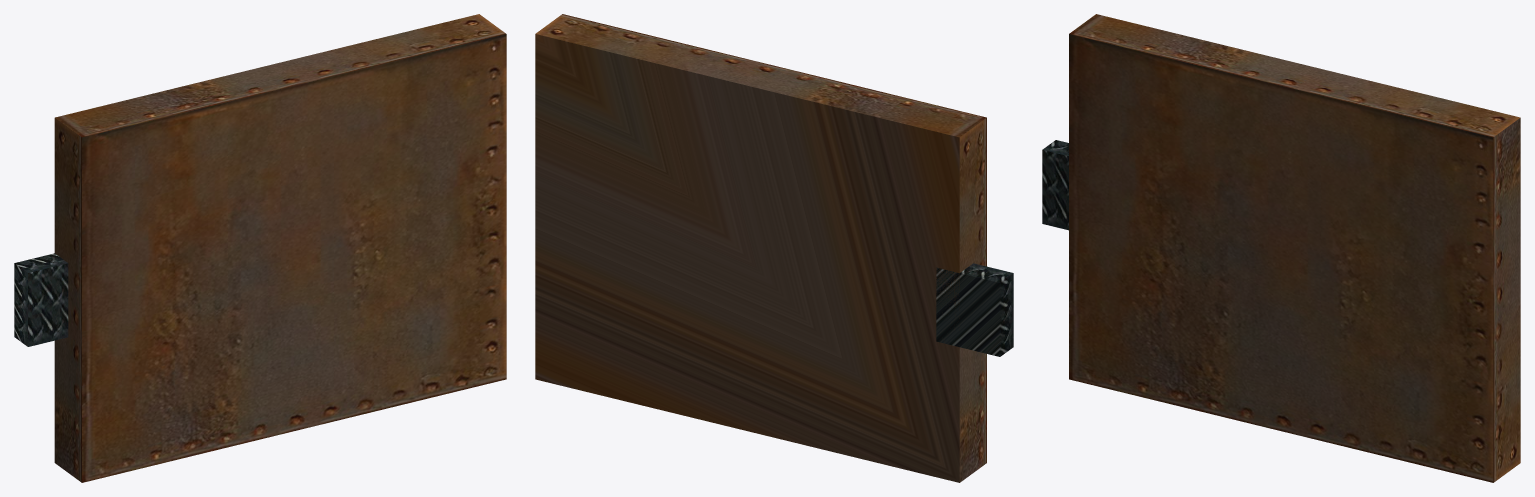
Rendered from elevator_shaft.glb.
3 views of the same model, side by side, from view 1: azimuth 30°, elevation 25°; view 2: azimuth 150°, elevation 25°; view 3: azimuth 330°, elevation 25° (orthographic).
Visible parts, largest first — view 1: shaft; view 2: shaft; view 3: shaft.
Part boxes in pixels (<box>): shaft: <box>14,14,506,482</box>; shaft: <box>535,14,1013,482</box>; shaft: <box>1042,14,1520,482</box>.
Bounding box in the file's own units: 9.86 × 7 × 1.
Materials: 2 (2 with a texture image).
